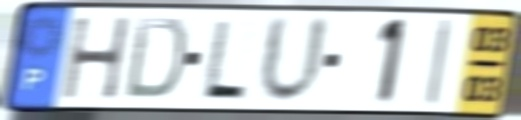1: (373, 16, 411, 108)
D: (121, 15, 190, 103)
H: (60, 14, 134, 102)
I: (423, 16, 456, 109)
L: (198, 17, 250, 103)
U: (255, 13, 333, 109)
